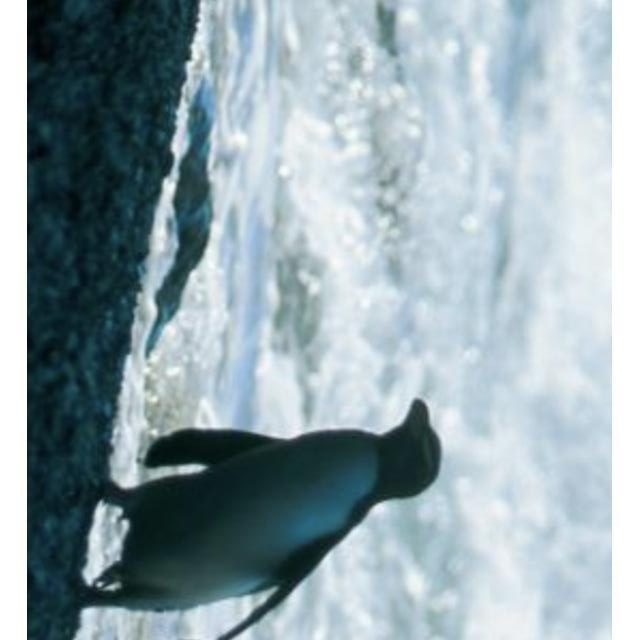penguin: (75, 397, 442, 639)
